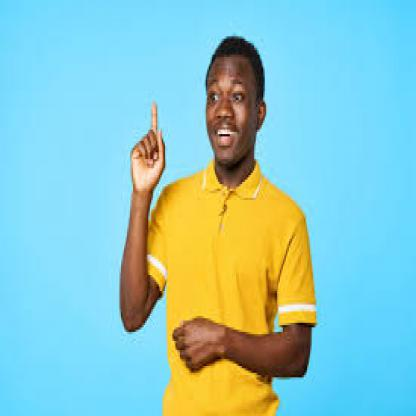Up: (121, 92, 175, 200)
